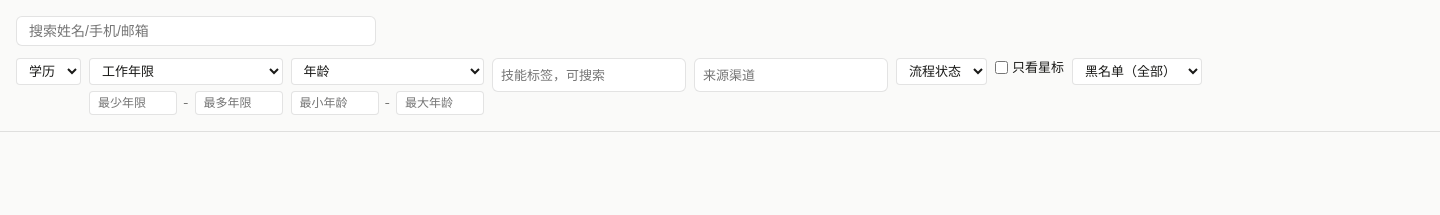
Test case: TalentPoolFilters › renders skill options in multi-select menu
Focus the field with class "filters__tag-input". click: (589, 75)
box: [501, 63, 677, 87]
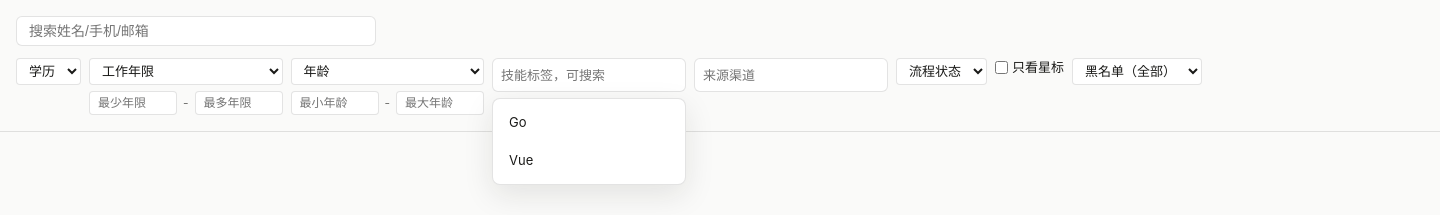
Check: the elements with class "filter-multi-select__option" read "Go", "Vue", in this order, box [499, 105, 679, 140]; [499, 142, 679, 178]
